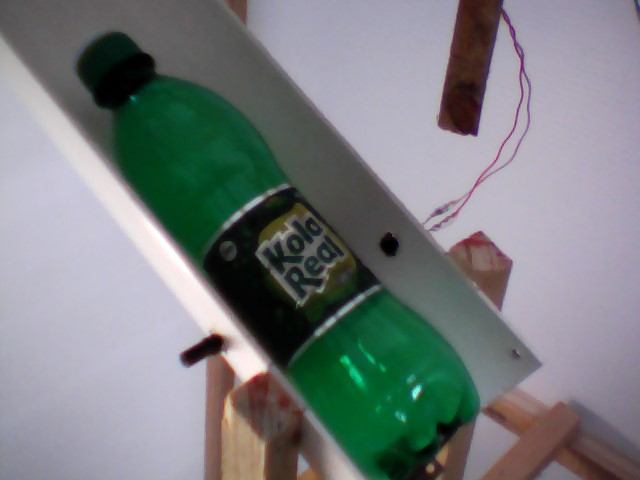plastico: (72, 29, 487, 480)
